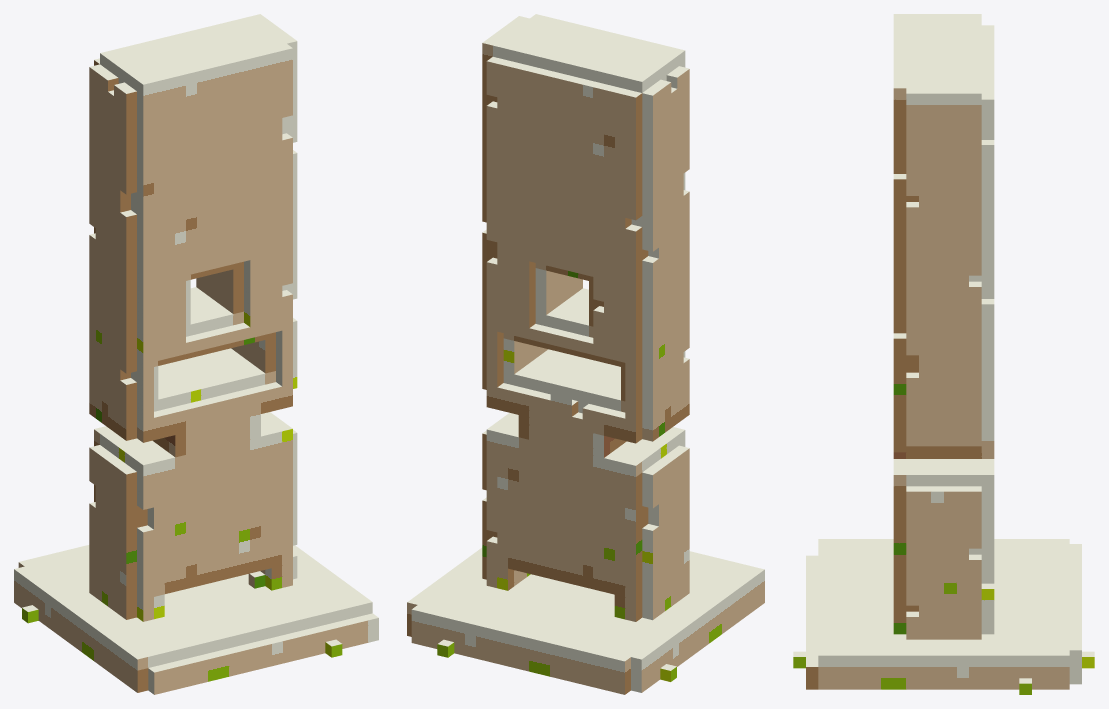
File: yu_statue_aao.fezao.glb
3 renders of one model, left to right at view 1: azimuth 30°, elevation 25°; view 2: azimuth 150°, elevation 25°; view 3: azimuth 270°, elevation 25°, orthographic.
Visible parts, largest first — view 1: YU_STATUE_AAO; view 2: YU_STATUE_AAO; view 3: YU_STATUE_AAO.
Boxes of the visible parts, left/top/right/bottom form: YU_STATUE_AAO: left=14, top=14, right=378, bottom=694; YU_STATUE_AAO: left=407, top=14, right=764, bottom=694; YU_STATUE_AAO: left=793, top=14, right=1094, bottom=694.
Bounding box in the file's own units: 1.5 × 3.19 × 1.5.
Materials: 1 (1 with a texture image).
